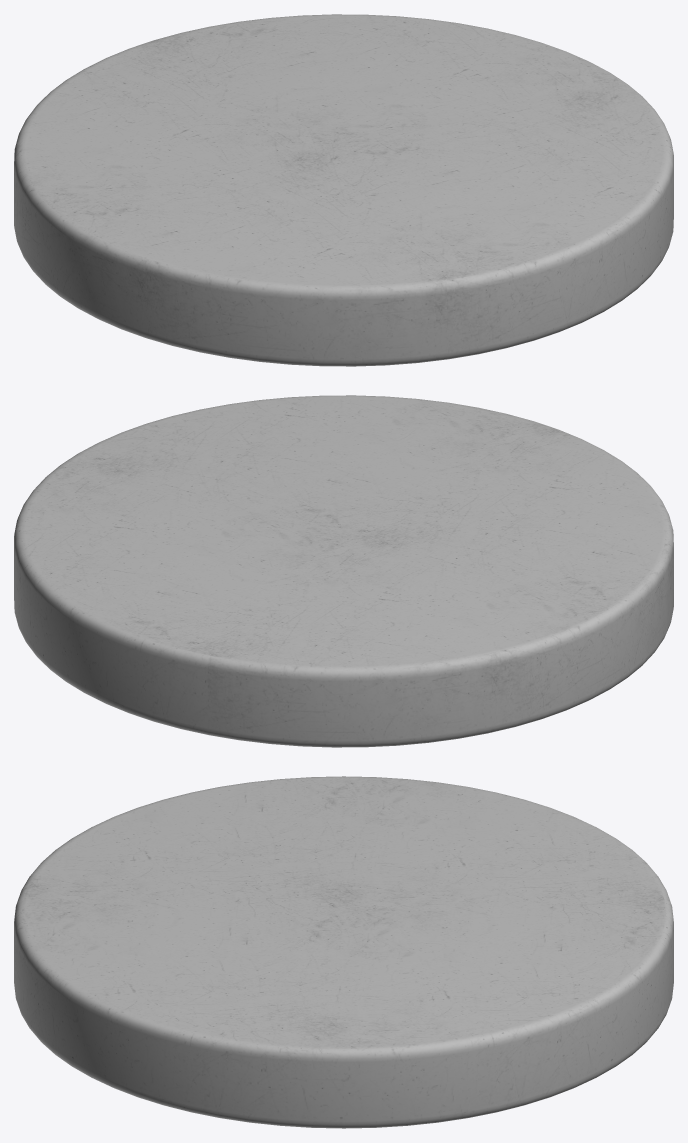
The model's file is lente.glb.
The picture shows the model from 3 angles, top to bottom: view 1: azimuth 30°, elevation 25°; view 2: azimuth 150°, elevation 25°; view 3: azimuth 270°, elevation 25°; orthographic projection.
Visible parts, largest first — view 1: Cylinder001; view 2: Cylinder001; view 3: Cylinder001.
Part boxes in pixels (left/top/right/bottom): Cylinder001: left=14, top=14, right=673, bottom=366; Cylinder001: left=14, top=395, right=673, bottom=747; Cylinder001: left=14, top=776, right=673, bottom=1128.
Bounding box in the file's own units: 3 × 0.4 × 3.
1 material, 1 textured.
